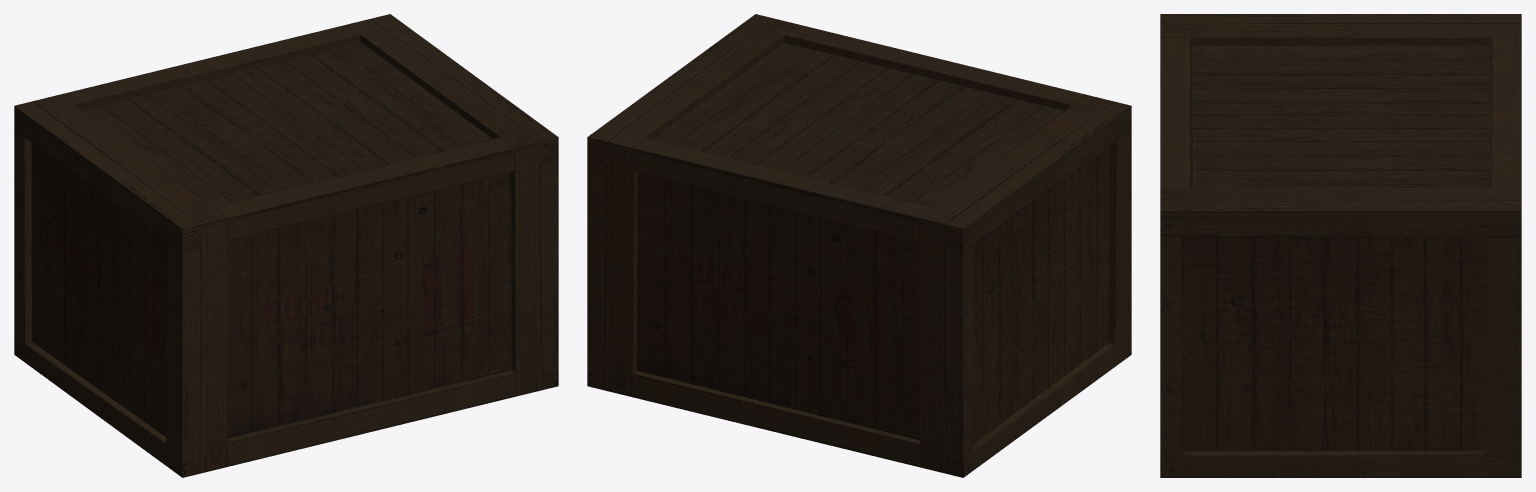
The model's file is wooden_crate_1.fbx.
The picture shows the model from 3 angles, left to right: view 1: azimuth 30°, elevation 25°; view 2: azimuth 150°, elevation 25°; view 3: azimuth 270°, elevation 25°; orthographic projection. The views are drawn at different scales.
Parts seen in each view (by area): view 1: wooden_crate_1; view 2: wooden_crate_1; view 3: wooden_crate_1.
Boxes of the visible parts, box(x1,y1,x2,y2) form: wooden_crate_1: box(14, 14, 558, 477); wooden_crate_1: box(587, 14, 1131, 477); wooden_crate_1: box(1160, 14, 1521, 477).
Size of the model in its own units: 1.47 by 1.14 by 0.93.
